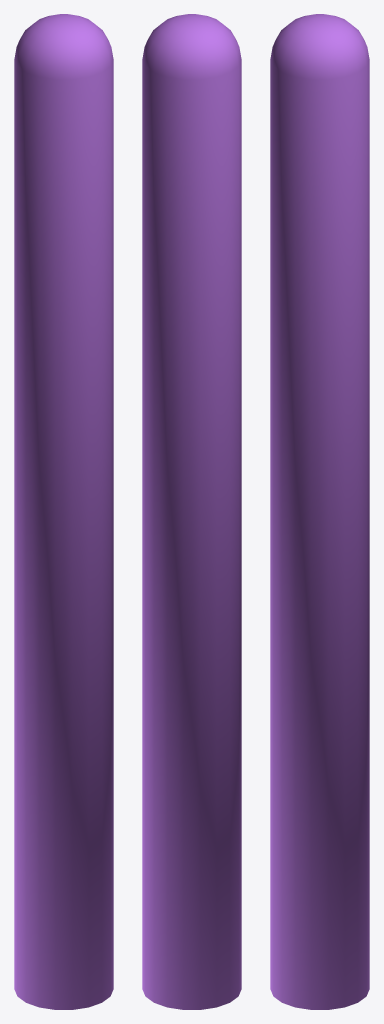
Rendered from Gate.fbx.
3 renders of one model, left to right at view 1: azimuth 30°, elevation 25°; view 2: azimuth 150°, elevation 25°; view 3: azimuth 330°, elevation 25°, orthographic.
Parts seen in each view (by area): view 1: Gate; view 2: Gate; view 3: Gate.
Boxes of the visible parts, bbox=[...] form: Gate: bbox=[14, 14, 113, 1009]; Gate: bbox=[142, 14, 241, 1009]; Gate: bbox=[270, 14, 369, 1009].
Bounding box in the file's own units: 19.98 × 219 × 20.28.
